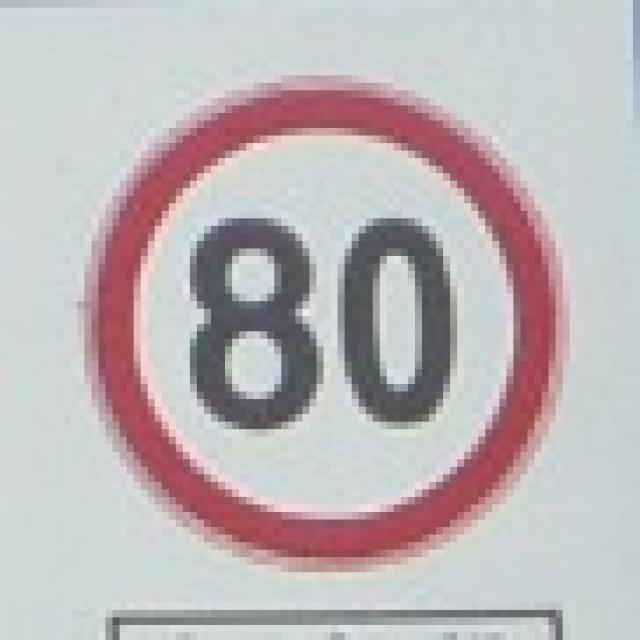Speed Limit -80-: (186, 209, 462, 433)
